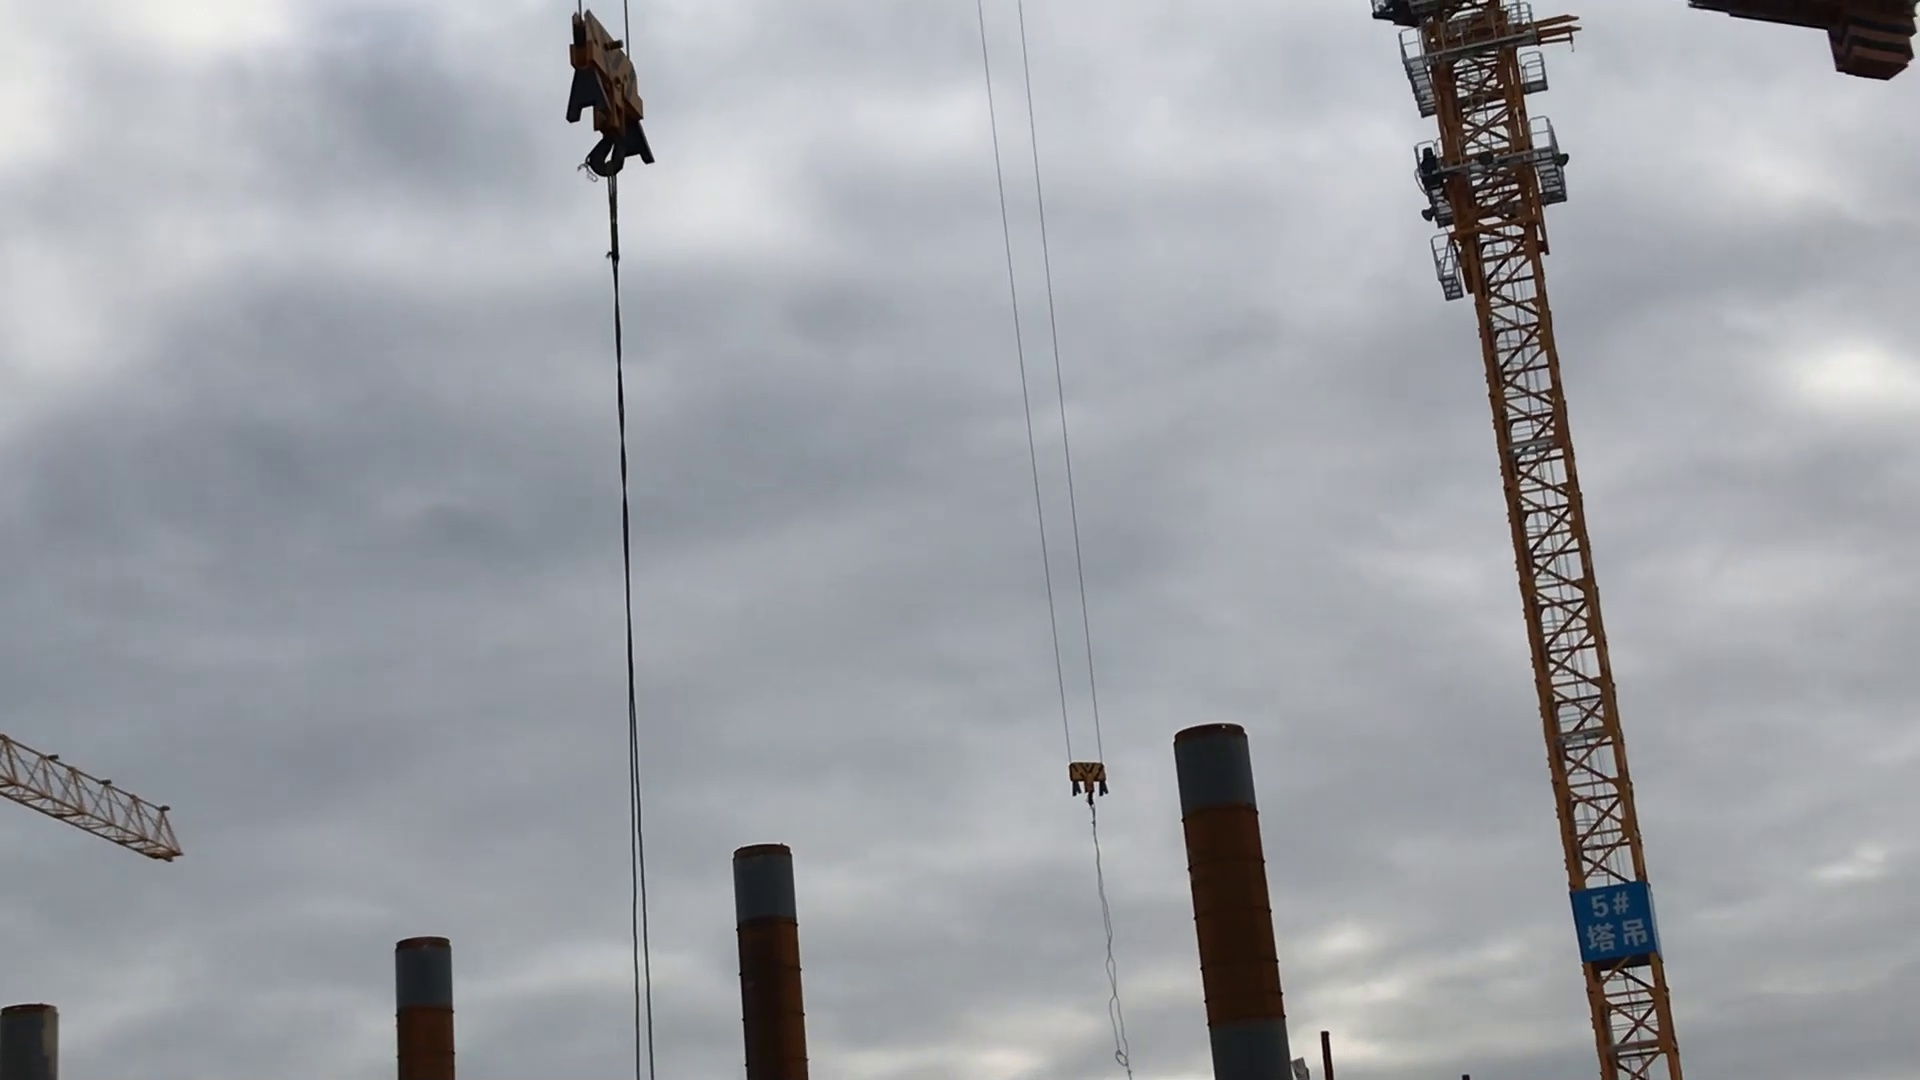hook: (543, 1, 669, 194), (1065, 760, 1116, 811)
slogan: (1568, 876, 1664, 972)
